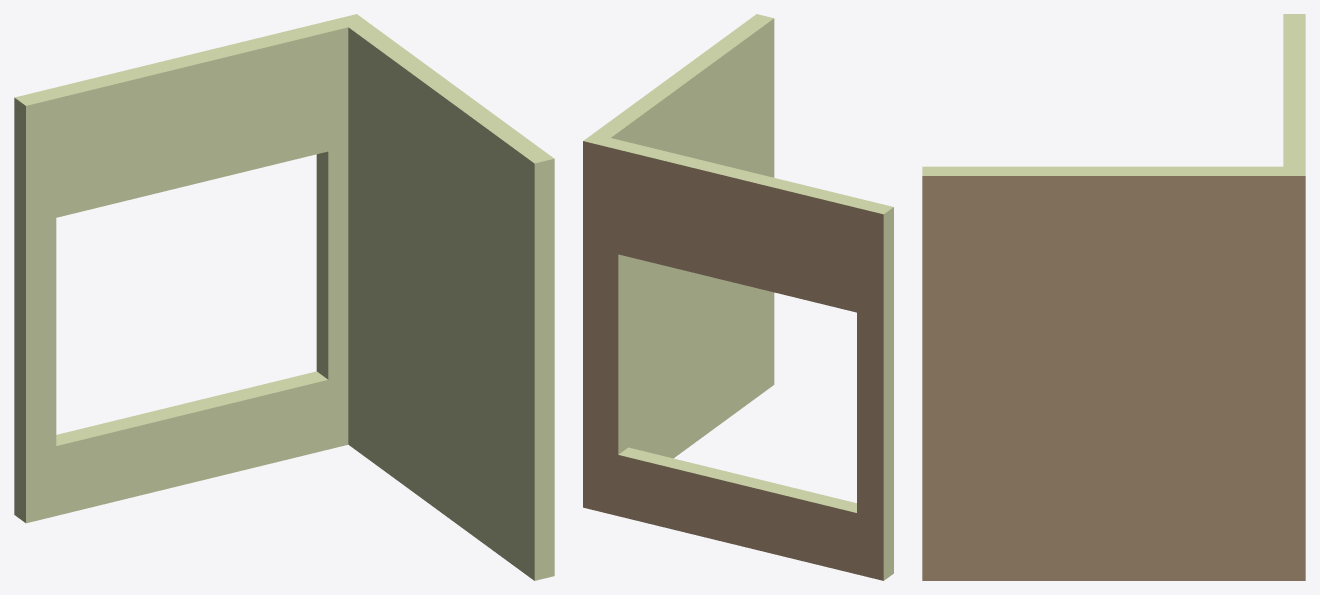
The model's file is Wall2_C5_13.fbx.
3 views of the same model, side by side, from view 1: azimuth 30°, elevation 25°; view 2: azimuth 150°, elevation 25°; view 3: azimuth 270°, elevation 25° (orthographic). The views are drawn at different scales.
Visible parts, largest first — view 1: Wall2_C5_13; view 2: Wall2_C5_13; view 3: Wall2_C5_13.
Boxes of the visible parts, x1,y1,x2,y2 form: Wall2_C5_13: [14, 14, 554, 580]; Wall2_C5_13: [583, 14, 893, 580]; Wall2_C5_13: [922, 14, 1305, 580].
Size of the model in its own units: 258 by 300 by 258.
